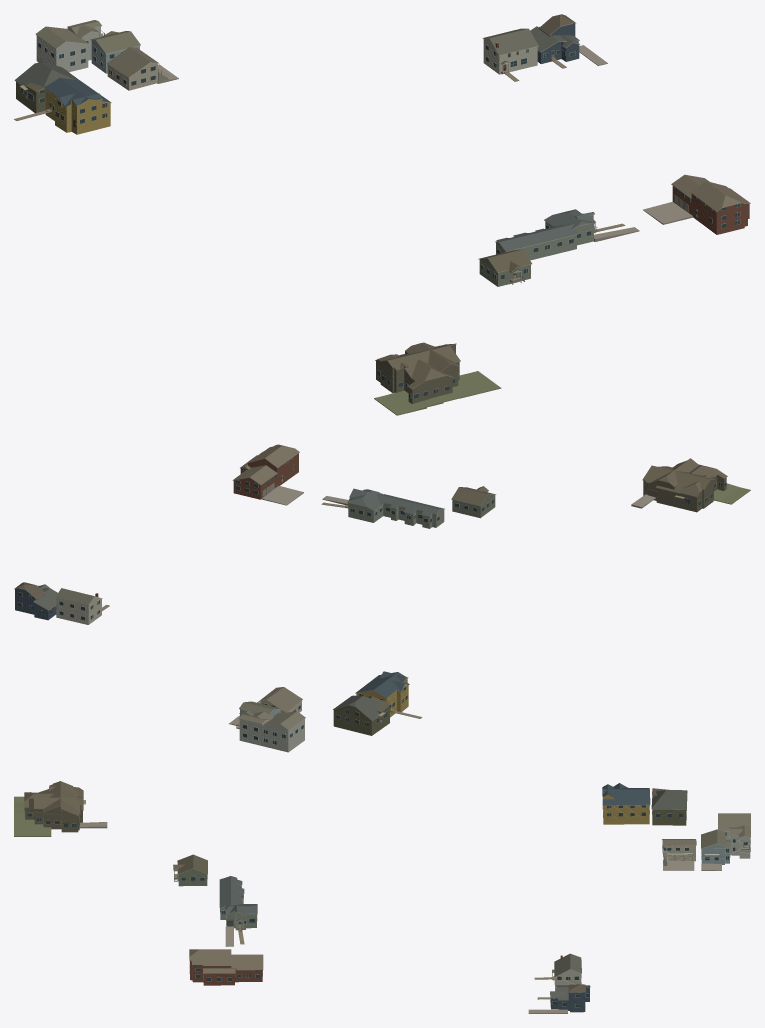
File: site.glb
3 views of the same model, one above another, from view 1: azimuth 30°, elevation 25°; view 2: azimuth 150°, elevation 25°; view 3: azimuth 270°, elevation 25° (orthographic). The views are drawn at different scales.
Parts seen in each view (by area): view 1: roof-b1caff97, emerald-onyx-approaches, roof-90b1b81e, roof-9752966f, roof-c0e5df84, emerald-alley-1940, roof-4ad5629d, east20-1425, roof-b7484145, onyx-1959-west, roof-b36b0ddb, emerald-alley-1946; view 2: roof-b1caff97, roof-c0e5df84, roof-90b1b81e, emerald-alley-1940, onyx-1959-west, emerald-onyx-approaches, roof-9752966f, roof-4ad5629d, east20-1425, roof-b36b0ddb, roof-b7484145; view 3: roof-90b1b81e, roof-b1caff97, emerald-onyx-approaches, roof-9752966f, roof-c0e5df84, onyx-1959-west, emerald-alley-1940, east20-1425, roof-b36b0ddb, emerald-alley-1946, roof-4ad5629d, roof-b7484145.
Boxes of the visible parts, x1=… form: roof-b1caff97: x1=375, y1=342, x2=460, y2=404; emerald-onyx-approaches: x1=14, y1=45, x2=692, y2=415; roof-90b1b81e: x1=671, y1=174, x2=750, y2=234; roof-9752966f: x1=44, y1=77, x2=111, y2=134; roof-c0e5df84: x1=495, y1=209, x2=595, y2=260; emerald-alley-1940: x1=35, y1=20, x2=104, y2=72; roof-4ad5629d: x1=482, y1=28, x2=538, y2=74; east20-1425: x1=530, y1=14, x2=580, y2=63; roof-b7484145: x1=106, y1=47, x2=169, y2=90; onyx-1959-west: x1=14, y1=61, x2=79, y2=113; roof-b36b0ddb: x1=478, y1=249, x2=532, y2=286; emerald-alley-1946: x1=90, y1=31, x2=140, y2=73; roof-b1caff97: x1=642, y1=458, x2=727, y2=512; roof-c0e5df84: x1=347, y1=488, x2=444, y2=528; roof-90b1b81e: x1=232, y1=444, x2=299, y2=499; emerald-alley-1940: x1=236, y1=711, x2=305, y2=752; onyx-1959-west: x1=333, y1=695, x2=390, y2=735; emerald-onyx-approaches: x1=38, y1=483, x2=750, y2=726; roof-9752966f: x1=355, y1=671, x2=409, y2=717; roof-4ad5629d: x1=55, y1=588, x2=102, y2=624; east20-1425: x1=14, y1=582, x2=57, y2=620; roof-b36b0ddb: x1=451, y1=486, x2=496, y2=518; roof-b7484145: x1=259, y1=687, x2=302, y2=712; roof-90b1b81e: x1=189, y1=949, x2=263, y2=985; roof-b1caff97: x1=24, y1=781, x2=85, y2=832; emerald-onyx-approaches: x1=14, y1=796, x2=721, y2=1013; roof-9752966f: x1=602, y1=783, x2=650, y2=824; roof-c0e5df84: x1=219, y1=876, x2=257, y2=930; onyx-1959-west: x1=651, y1=788, x2=687, y2=825; emerald-alley-1940: x1=718, y1=813, x2=750, y2=858; east20-1425: x1=550, y1=984, x2=590, y2=1012; roof-b36b0ddb: x1=173, y1=854, x2=207, y2=886; emerald-alley-1946: x1=701, y1=829, x2=730, y2=864; roof-4ad5629d: x1=552, y1=953, x2=581, y2=991; roof-b7484145: x1=662, y1=839, x2=696, y2=865.
Bounding box in the file's own units: 158 × 13.78 × 236.
